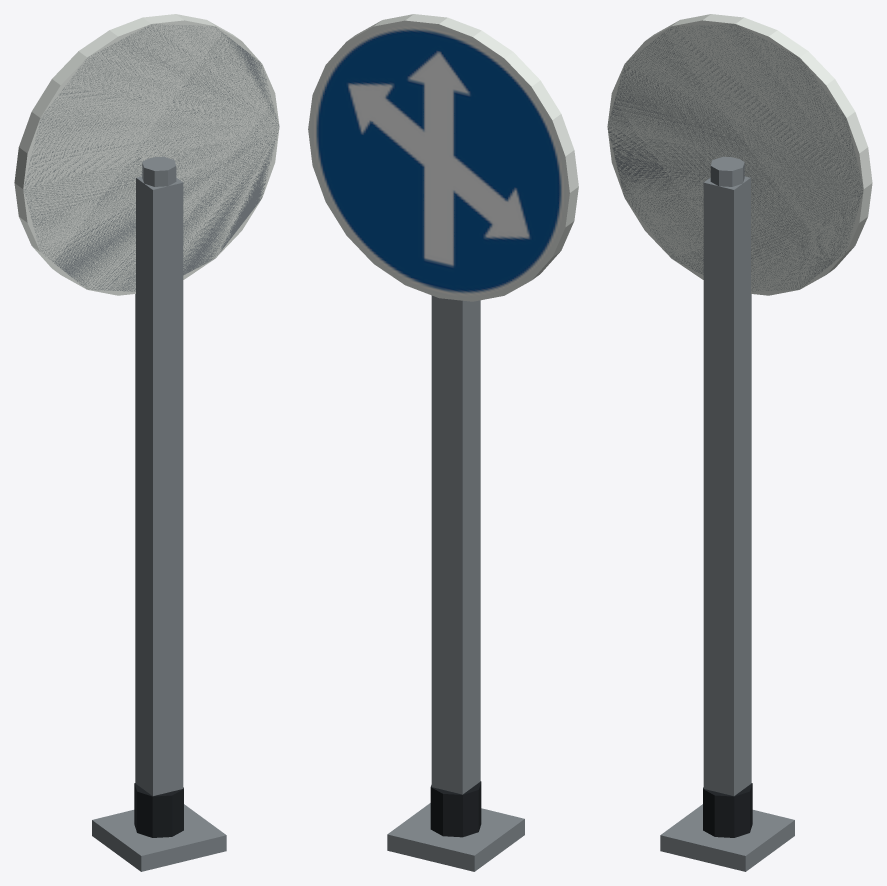
File: direction-sign-l-a-hr.glb
3 renders of one model, left to right at view 1: azimuth 30°, elevation 25°; view 2: azimuth 150°, elevation 25°; view 3: azimuth 330°, elevation 25°, orthographic. The views are drawn at different scales.
Parts seen in each view (by area): view 1: direction-sign-l-a-hr (×2); view 2: direction-sign-l-a-hr (×2); view 3: direction-sign-l-a-hr (×2).
Part boxes in pixels (<box>): direction-sign-l-a-hr (×2): <box>14,14,279,871</box>; direction-sign-l-a-hr (×2): <box>308,14,578,871</box>; direction-sign-l-a-hr (×2): <box>607,14,872,871</box>.
Size of the model in its own units: 2.35 by 7.14 by 0.784.
Materials: 4 (1 with a texture image).
